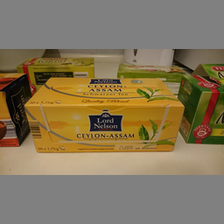tea: (24, 76, 185, 153), (17, 55, 95, 83)
